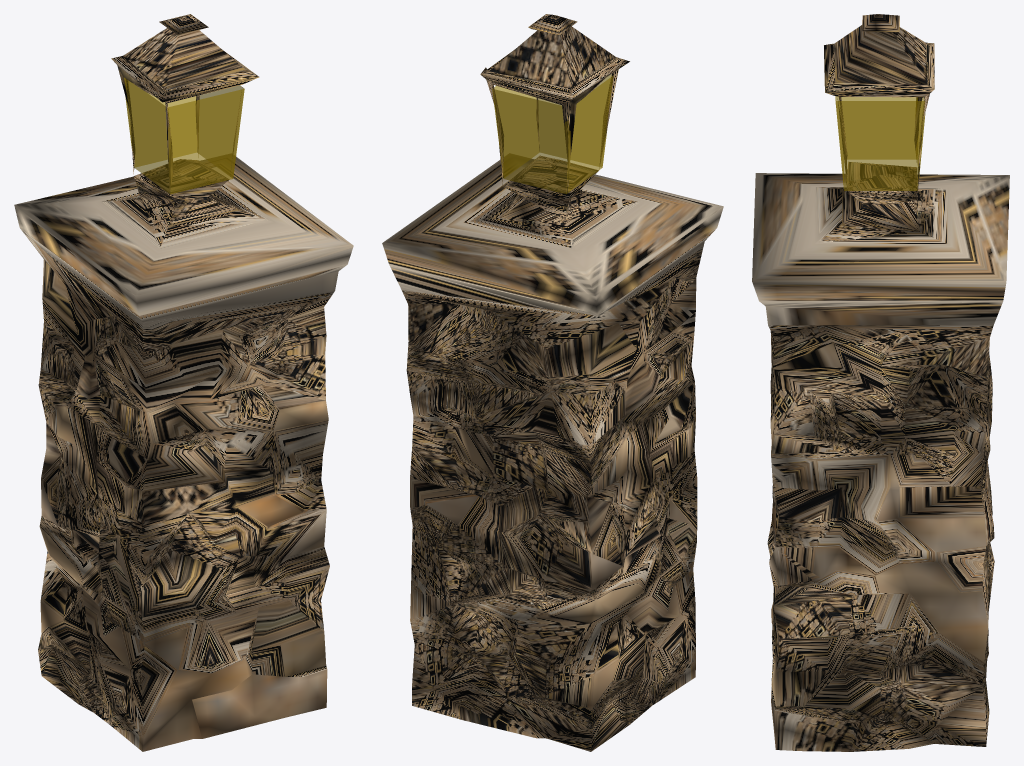
File: stone_pillar.glb
3 views of the same model, side by side, from view 1: azimuth 30°, elevation 25°; view 2: azimuth 150°, elevation 25°; view 3: azimuth 270°, elevation 25° (orthographic). The views are drawn at different scales.
Visible parts, largest first — view 1: LO, glass; view 2: LO, glass; view 3: LO, glass.
Boxes of the visible parts, x1,y1,x2,y2 form: LO: (14, 14, 353, 751); glass: (124, 77, 244, 194); LO: (382, 14, 723, 751); glass: (492, 74, 613, 193); LO: (752, 14, 1009, 751); glass: (835, 96, 925, 190).
Size of the model in its own units: 0.7253 by 2.15 by 0.725.
2 materials, 1 textured.
